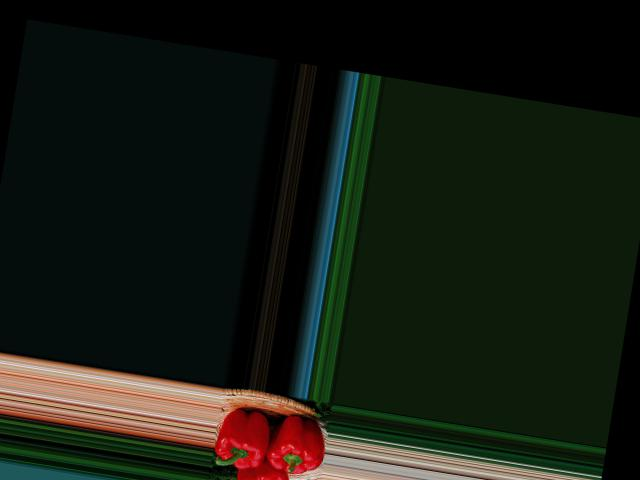bell_pepper: (213, 398, 282, 474)
